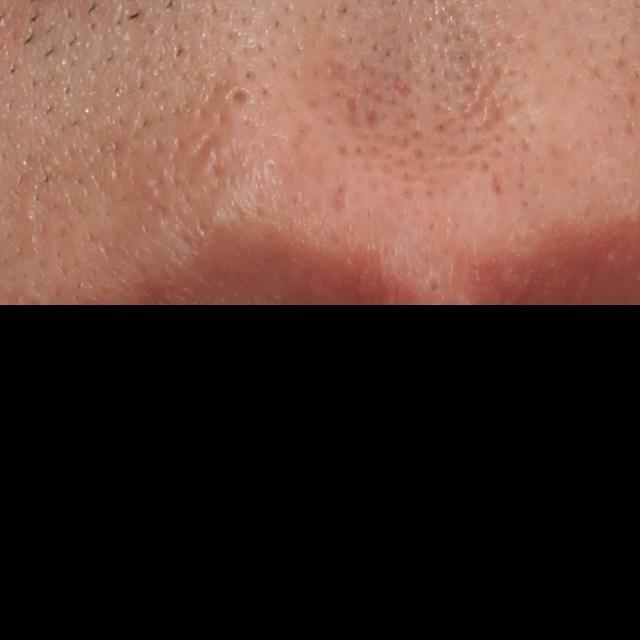atrophic_scar: (342, 88, 362, 136), (329, 181, 351, 213)
comedo: (221, 84, 256, 112)
